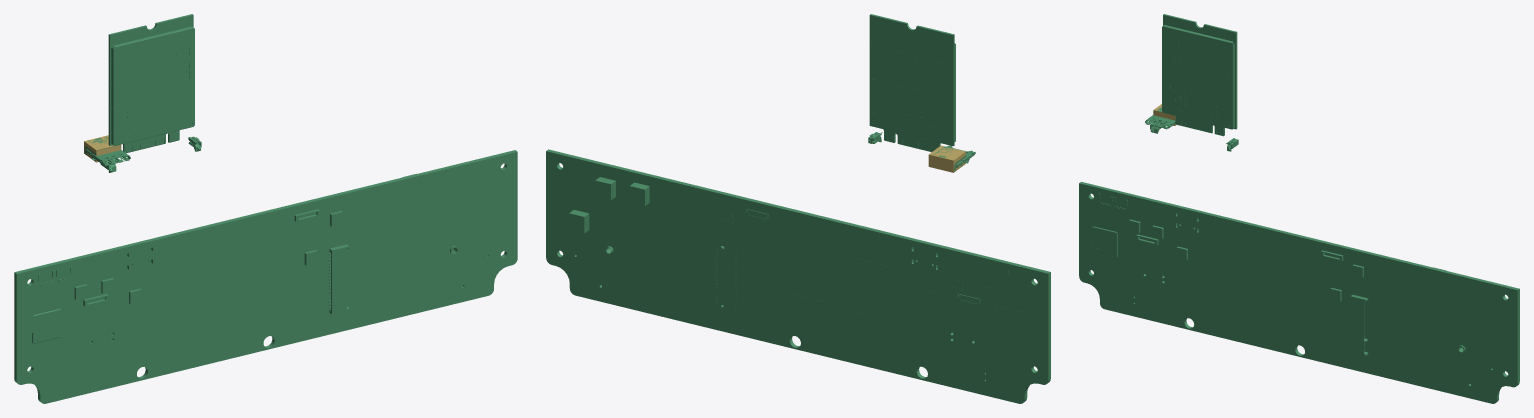
The model's file is assembly.glb.
3 views of the same model, side by side, from view 1: azimuth 30°, elevation 25°; view 2: azimuth 150°, elevation 25°; view 3: azimuth 330°, elevation 25° (orthographic). The views are drawn at different scales.
Parts seen in each view (by area): view 1: pcb, usb; view 2: pcb, usb; view 3: pcb.
Part boxes in pixels (left/top/right/bottom): pcb: left=14, top=14, right=517, bottom=403; usb: left=84, top=135, right=121, bottom=162; pcb: left=546, top=14, right=1050, bottom=403; usb: left=928, top=145, right=965, bottom=172; pcb: left=1079, top=14, right=1519, bottom=403.
Size of the model in its own units: 0.18 by 0.1207 by 0.0132.
